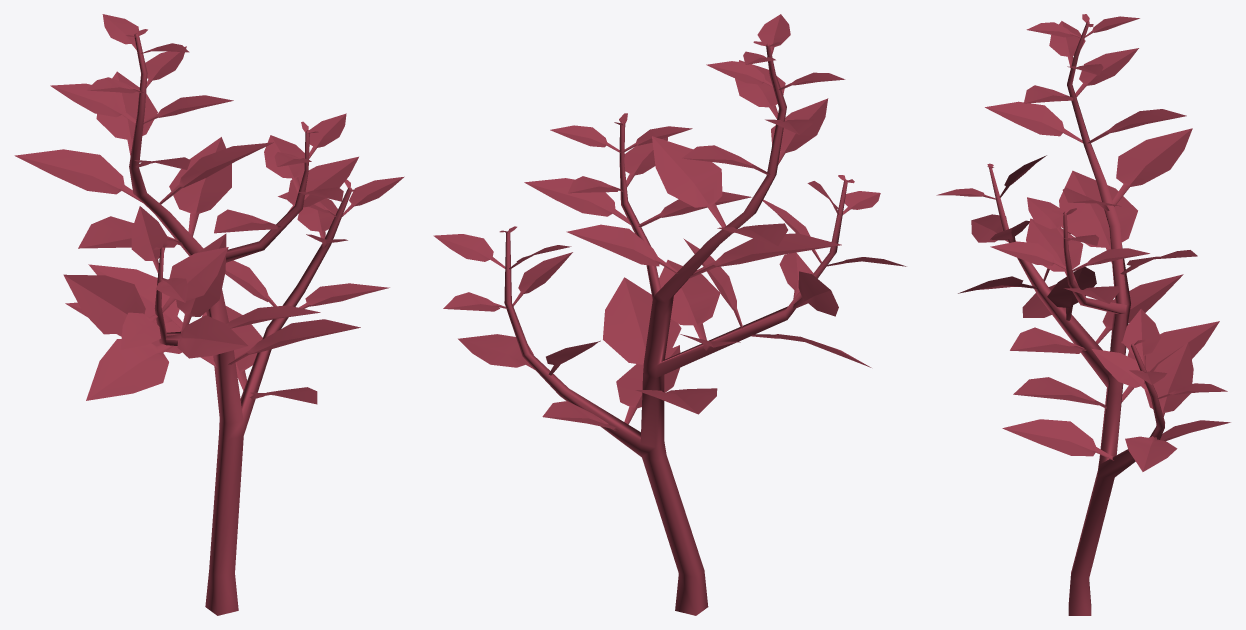
Rendered from SM_Blooddrop_Growing3.fbx.
3 renders of one model, left to right at view 1: azimuth 30°, elevation 25°; view 2: azimuth 150°, elevation 25°; view 3: azimuth 270°, elevation 25°, orthographic. The views are drawn at different scales.
Parts seen in each view (by area): view 1: SM_Blooddrop_Growing3; view 2: SM_Blooddrop_Growing3; view 3: SM_Blooddrop_Growing3.
Part boxes in pixels (x1,y1,x2,y2): SM_Blooddrop_Growing3: (14, 14, 404, 615); SM_Blooddrop_Growing3: (433, 14, 906, 615); SM_Blooddrop_Growing3: (936, 14, 1230, 615).
Bounding box in the file's own units: 55.38 × 82.49 × 39.84.
